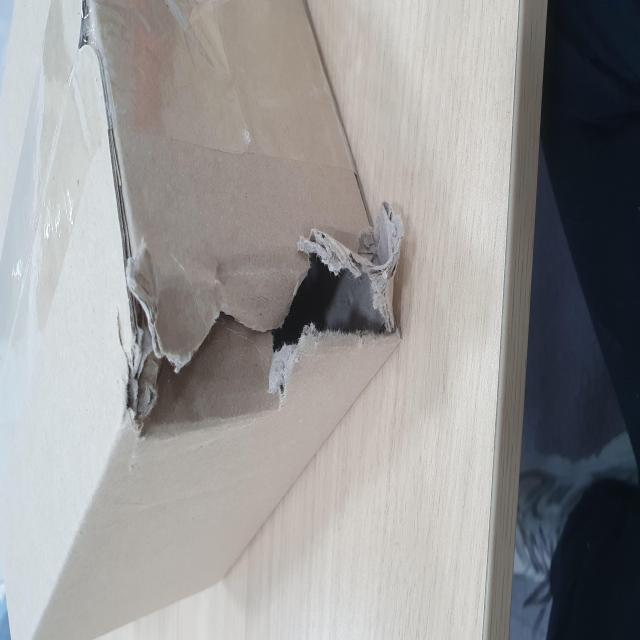damaged: (145, 453, 246, 640)
